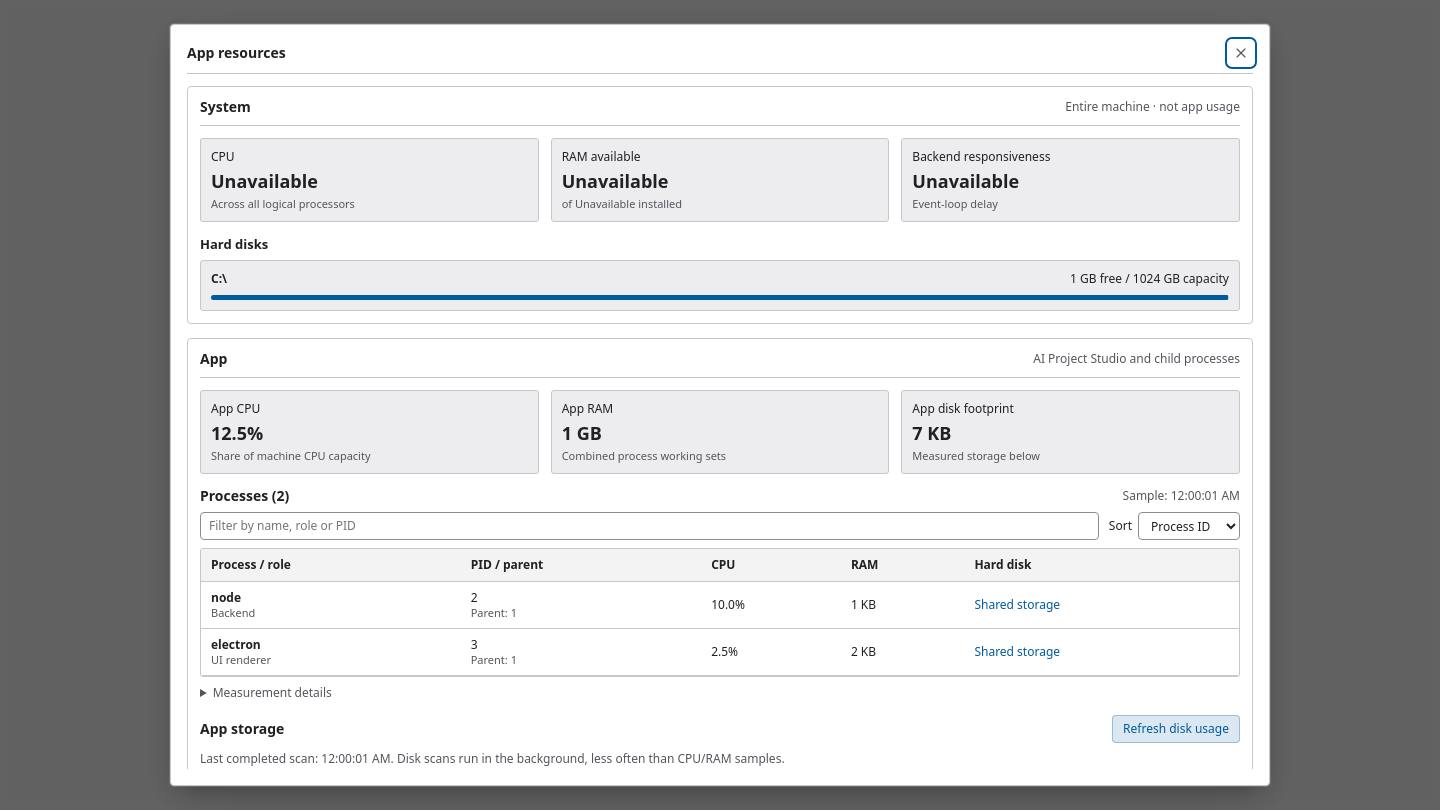
Test: app resource panel › separates app totals, per-process details, storage paths and host measurements
Expected: the text "12.5%" is shown, 211,421 -> 263,445
Expected: the text "Backend" is shown, 211,605 -> 255,620
Select "RAM usage" in the dropdown labelled "Sort" at {"x": 1189, "y": 526}, box 1138,512 -> 1240,540
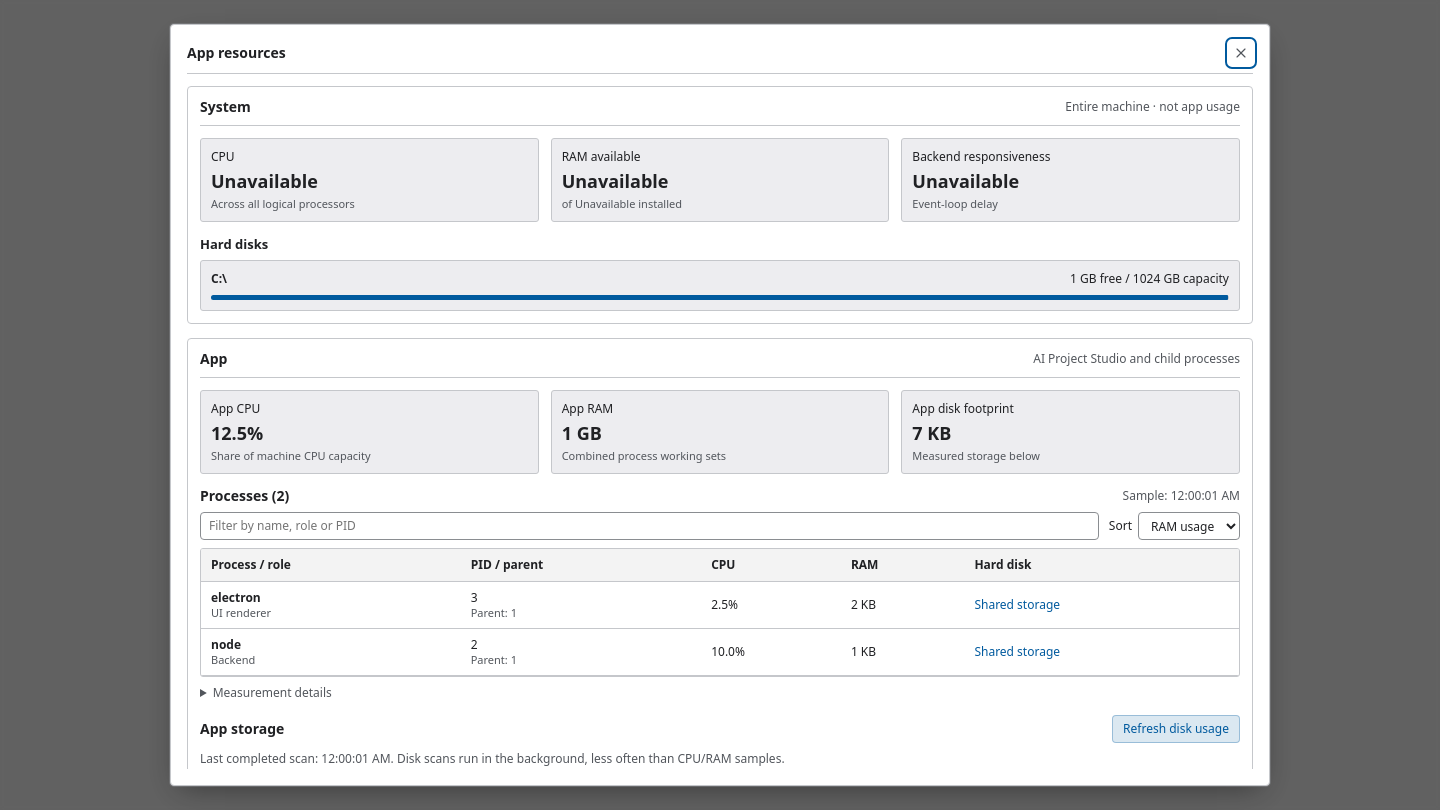
Expected: the row "electron UI renderer 3 Parent: 1 2.5% 2 KB Shared storage" is shown, 201,582 -> 1239,628
Select "CPU usage" in the dropdown labelled "Sort" at {"x": 1189, "y": 526}, box 1138,512 -> 1240,540
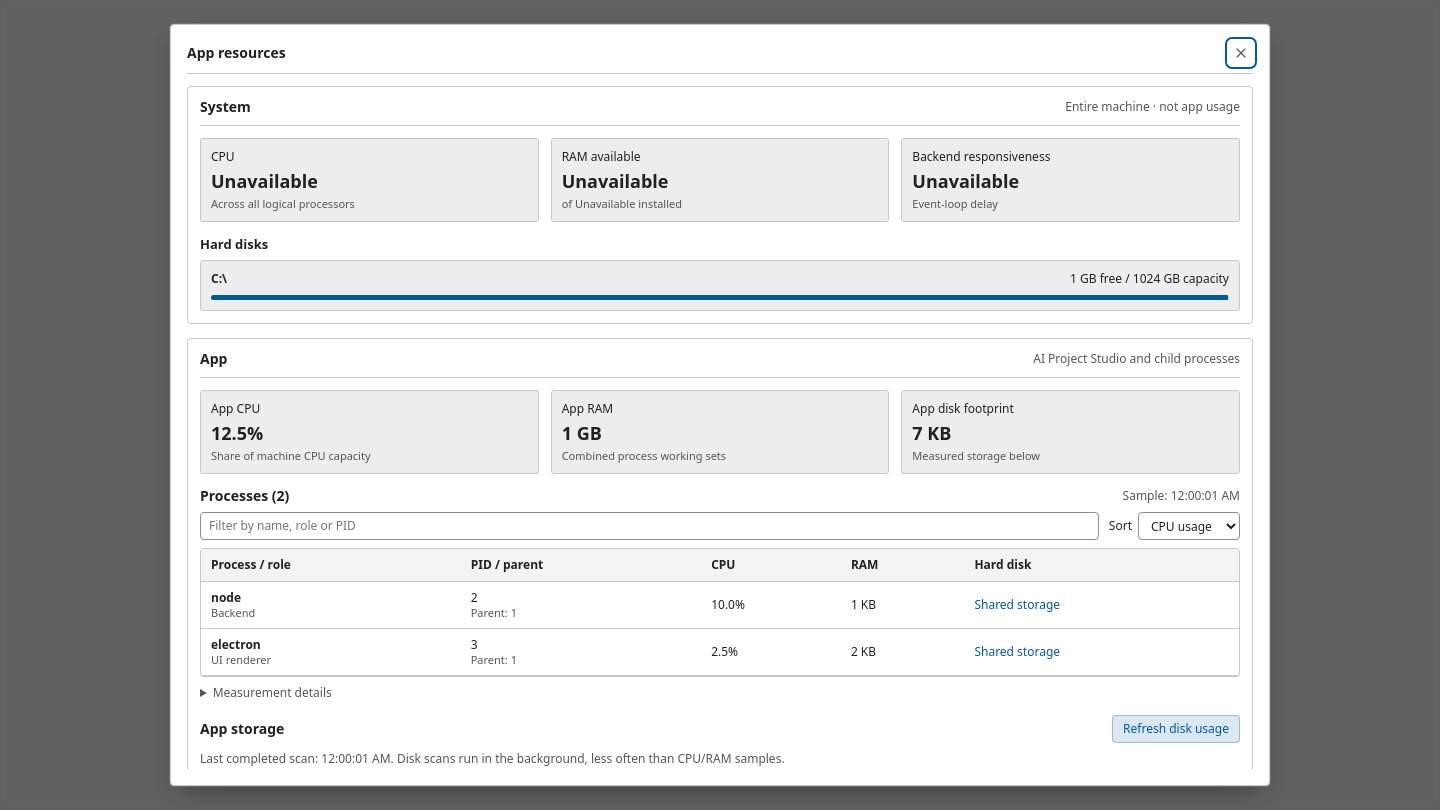
Expected: the row "node Backend 2 Parent: 1 10.0% 1 KB Shared storage" is shown, 201,582 -> 1239,628
Type "3" into the search field at {"x": 649, "y": 526}, box 200,512 -> 1099,540
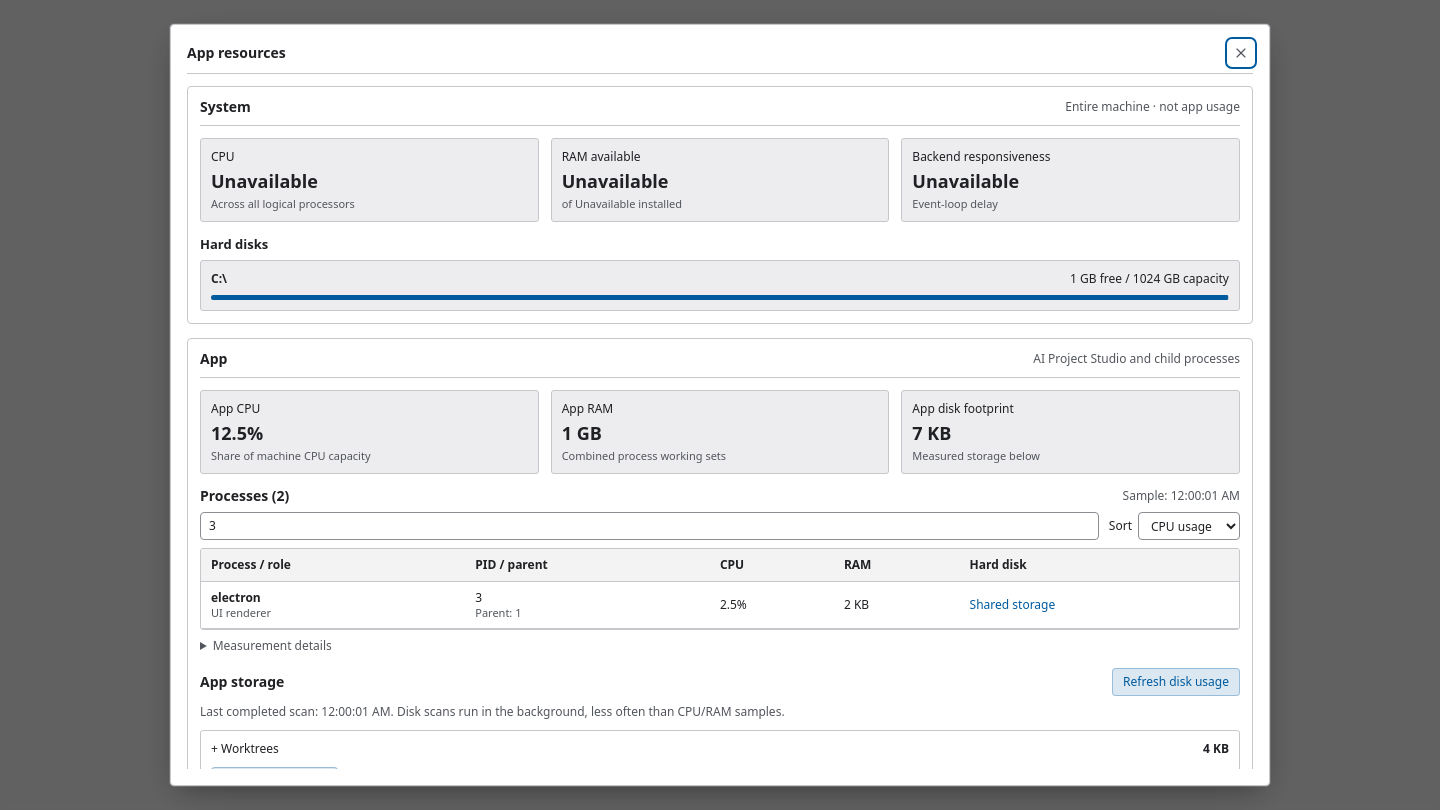
Expected: the text "electron" is shown, 211,589 -> 261,606
Expected: the text "node" is gone
